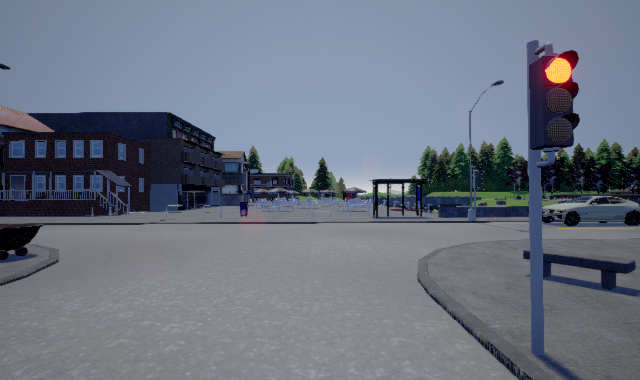traffic_light: (529, 42, 580, 168)
vehicle: (542, 196, 640, 226)
